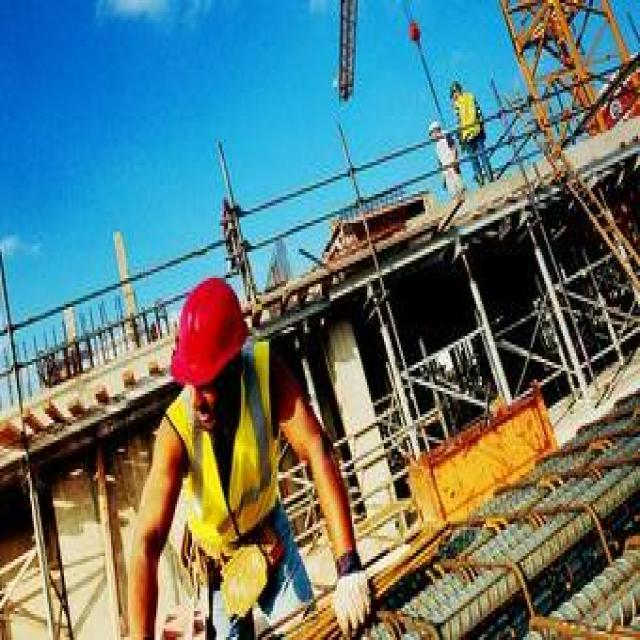Reflective-Jacket: (160, 345, 292, 576)
Safety-Helmet: (162, 269, 254, 400), (443, 77, 468, 100)
